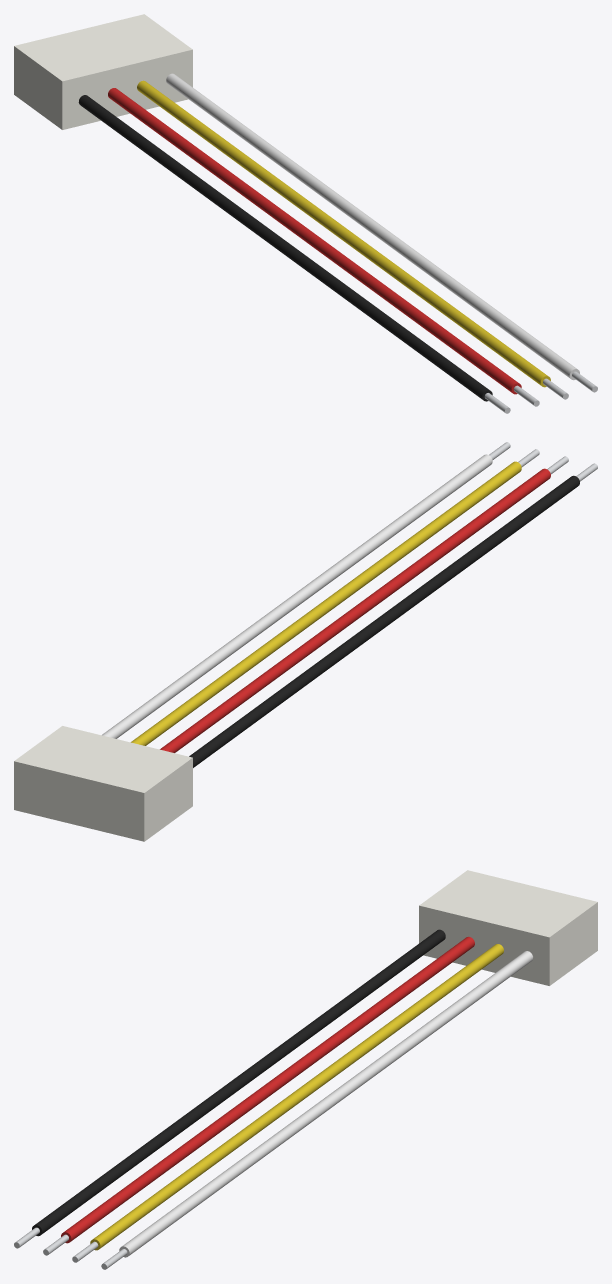
The model's file is lead_picoblade_plug.glb.
3 views of the same model, one above another, from view 1: azimuth 30°, elevation 25°; view 2: azimuth 150°, elevation 25°; view 3: azimuth 330°, elevation 25° (orthographic).
Parts seen in each view (by area): view 1: plug, wire1, wire2, wire4, wire3; view 2: plug, wire1, wire4, wire2, wire3; view 3: plug, wire3, wire4, wire1, wire2.
Boxes of the visible parts, x1=… form: plug: x1=14, y1=14, x2=192, y2=129; wire1: x1=78, y1=95, x2=492, y2=401; wire2: x1=108, y1=88, x2=521, y2=394; wire4: x1=166, y1=73, x2=579, y2=380; wire3: x1=137, y1=80, x2=550, y2=387; plug: x1=14, y1=726, x2=192, y2=841; wire1: x1=189, y1=475, x2=579, y2=767; wire4: x1=102, y1=454, x2=492, y2=738; wire2: x1=160, y1=468, x2=550, y2=752; wire3: x1=131, y1=461, x2=521, y2=745; plug: x1=419, y1=870, x2=597, y2=985; wire3: x1=90, y1=944, x2=503, y2=1250; wire4: x1=119, y1=951, x2=532, y2=1257; wire1: x1=32, y1=929, x2=445, y2=1236; wire2: x1=61, y1=936, x2=474, y2=1243.
Size of the model in its own units: 0.0056 by 0.002 by 0.0351.
